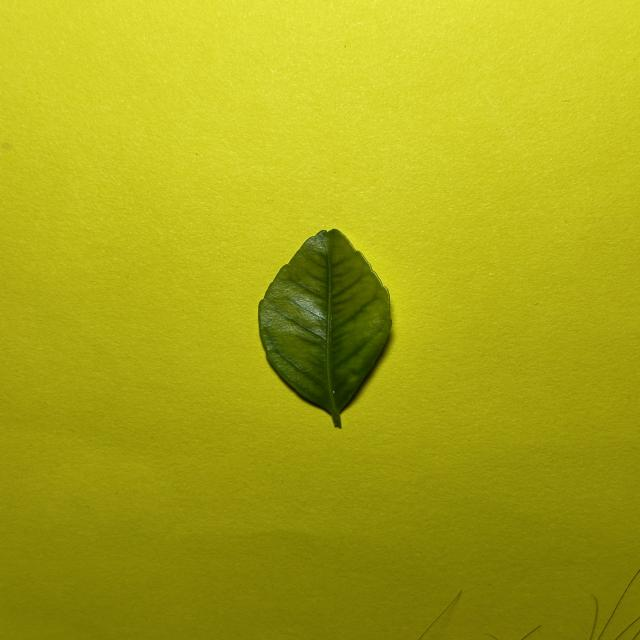greening: (259, 229, 392, 427)
